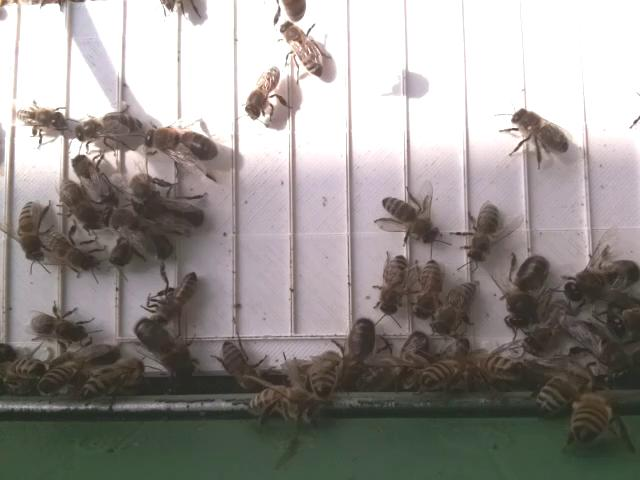Drone: (98, 203, 179, 265), (132, 314, 195, 378), (502, 254, 552, 333), (562, 256, 640, 305), (126, 191, 208, 234), (139, 125, 223, 166), (340, 316, 381, 391)
Worker: (510, 106, 571, 158), (380, 194, 440, 245), (278, 19, 328, 78), (432, 277, 480, 336), (69, 154, 118, 210), (150, 269, 199, 323), (45, 230, 100, 275), (464, 202, 501, 267), (409, 256, 445, 322), (77, 108, 144, 142), (28, 311, 90, 347), (13, 200, 46, 267), (245, 66, 281, 122), (376, 254, 407, 318), (10, 105, 70, 134)
